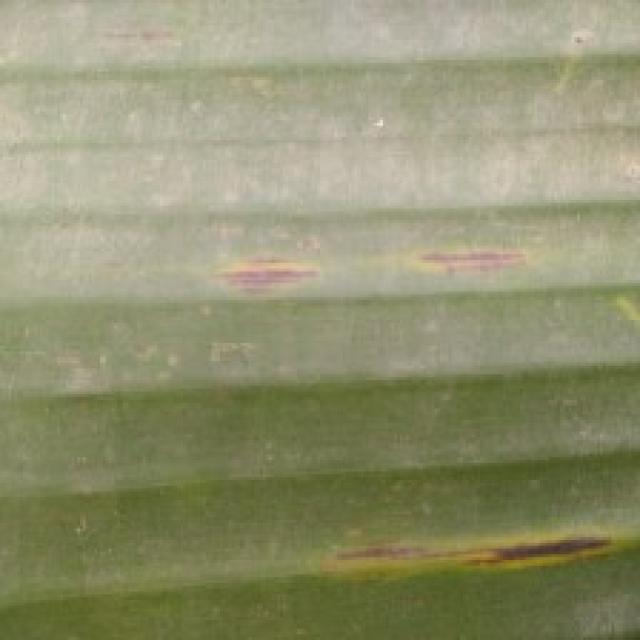Early_leaf_spot: (301, 511, 620, 587), (200, 229, 332, 322), (395, 220, 548, 296), (86, 13, 210, 80), (561, 28, 604, 55)
